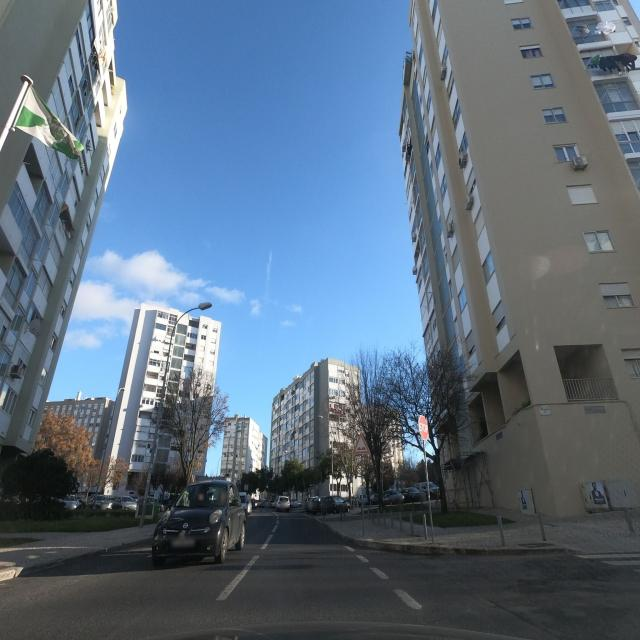car: (151, 475, 246, 566), (319, 496, 349, 514), (110, 496, 138, 511), (380, 489, 404, 506), (238, 491, 252, 517), (401, 487, 423, 503), (64, 494, 86, 508), (91, 494, 112, 508), (306, 496, 322, 514), (275, 495, 291, 512), (290, 498, 301, 509)
